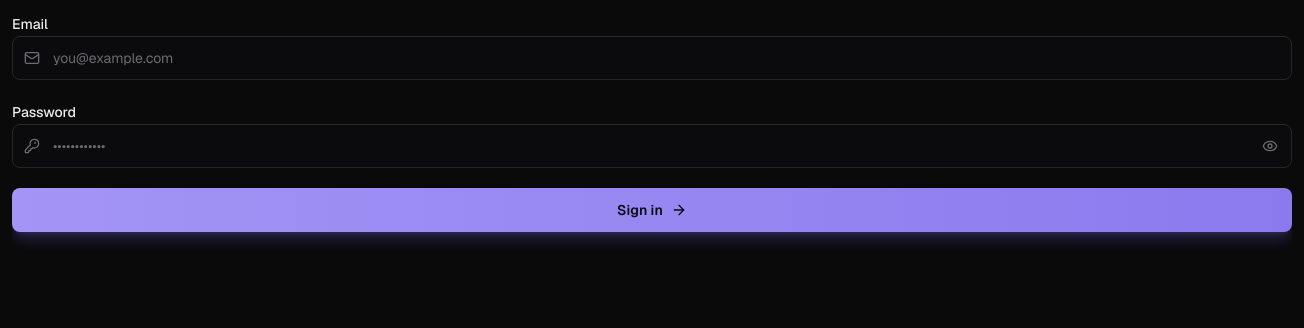
Test: LoginForm › shows the server error on bad credentials
Type "owner@example.com" into the field labelled "Email" at (652, 58), box [12,36,1292,80]
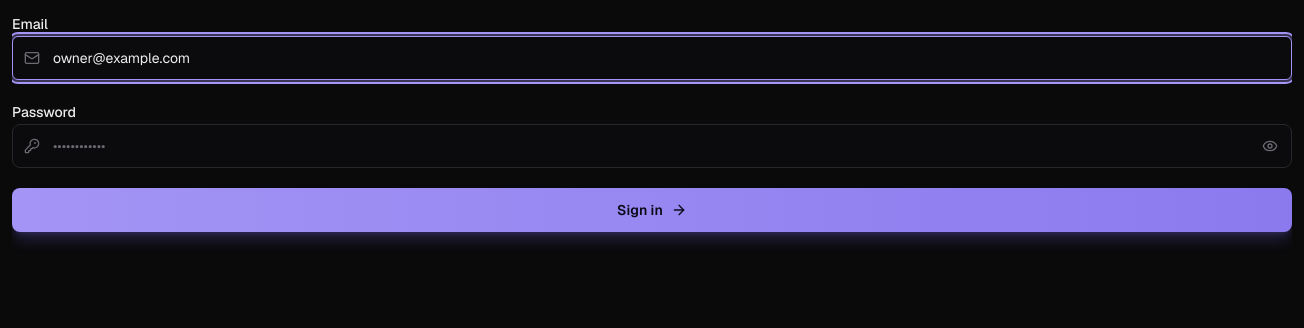
Type "wrong" into the password field labelled "Password" at (652, 146), box [12,124,1292,168]
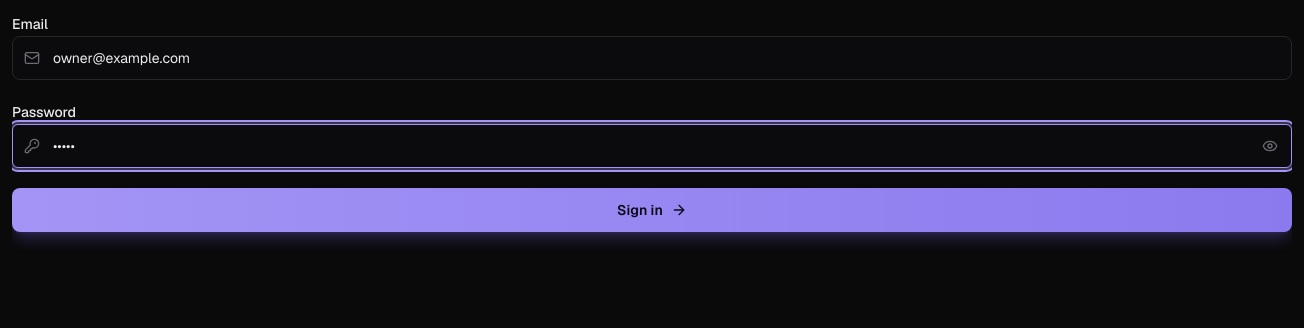
Click the button "Sign in" at (652, 210), box [12,188,1292,232]
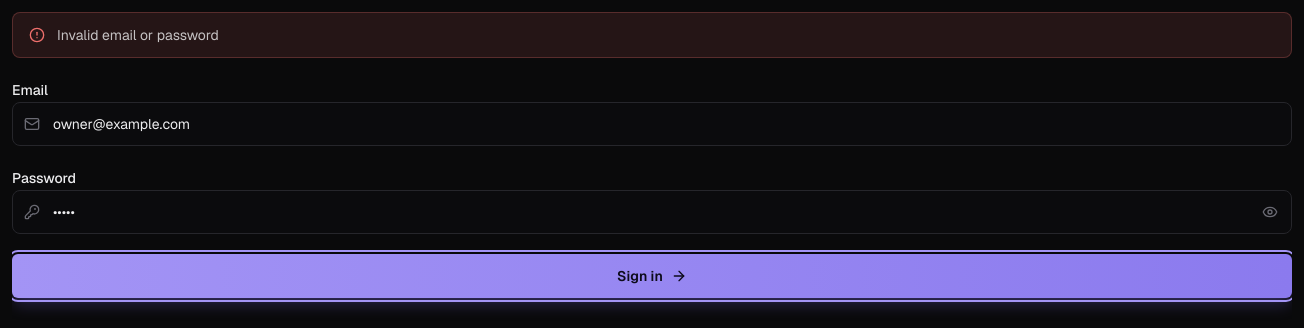
Result: the message reads "Invalid email or password" at [57,26,219,44]
